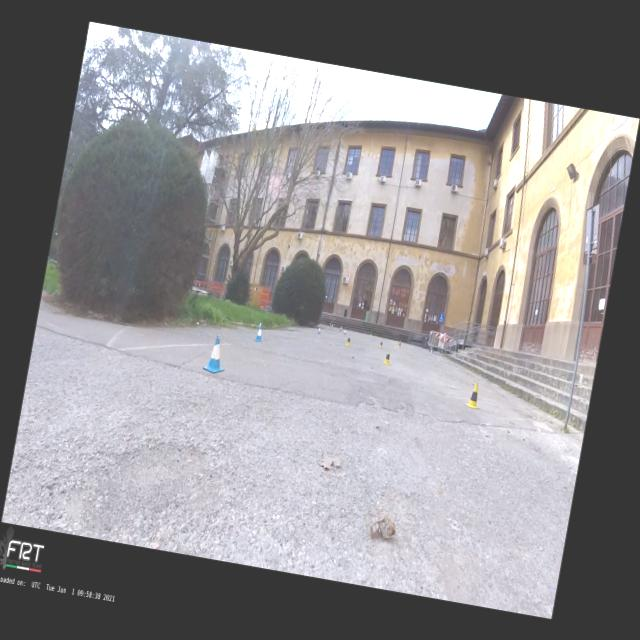blue_cone: (202, 334, 230, 376), (253, 323, 266, 342), (256, 320, 262, 331), (316, 324, 322, 334), (342, 327, 347, 335), (339, 326, 343, 332), (330, 324, 332, 328)
yellow_cone: (464, 382, 484, 409), (382, 348, 392, 364), (345, 334, 352, 346), (377, 338, 384, 348), (396, 339, 402, 348), (395, 336, 398, 342), (369, 330, 372, 336)
